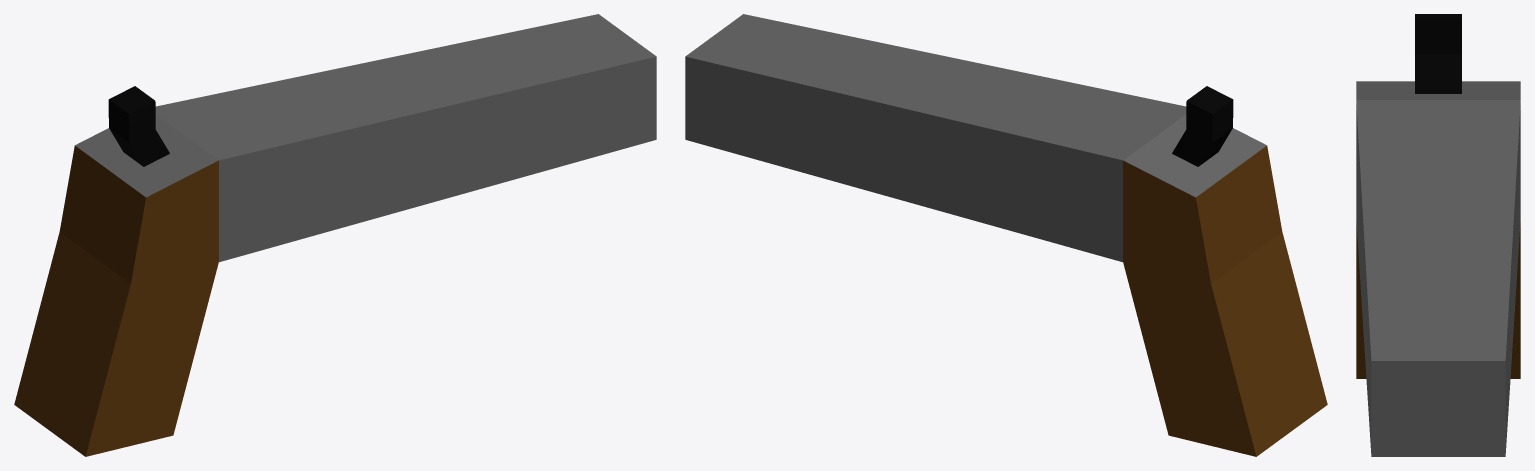
File: Captain_Gun.fbx
The picture shows the model from 3 angles, left to right: view 1: azimuth 30°, elevation 25°; view 2: azimuth 150°, elevation 25°; view 3: azimuth 270°, elevation 25°; orthographic projection. The views are drawn at different scales.
Visible parts, largest first — view 1: Captain_Gun; view 2: Captain_Gun; view 3: Captain_Gun.
Boxes of the visible parts, box(x1,y1,x2,y2) form: Captain_Gun: box(14, 14, 656, 456); Captain_Gun: box(685, 14, 1327, 456); Captain_Gun: box(1356, 14, 1520, 456).
Bounding box in the file's own units: 20.28 × 94.9 × 49.31.
